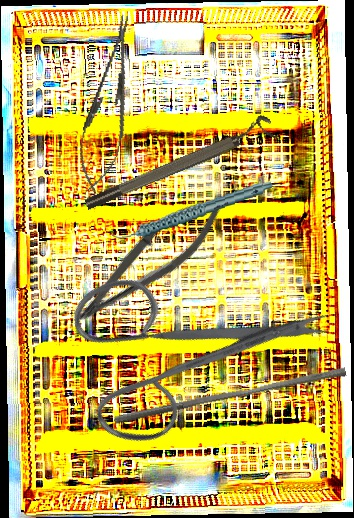Fixation Ring: (79, 112, 278, 214)
Handpiece: (108, 180, 276, 242)
Iris Scissors: (27, 184, 341, 500)
Micro Scissor: (63, 177, 239, 345)
Needle Holder: (71, 10, 147, 197)
Pusher: (113, 358, 347, 434)
